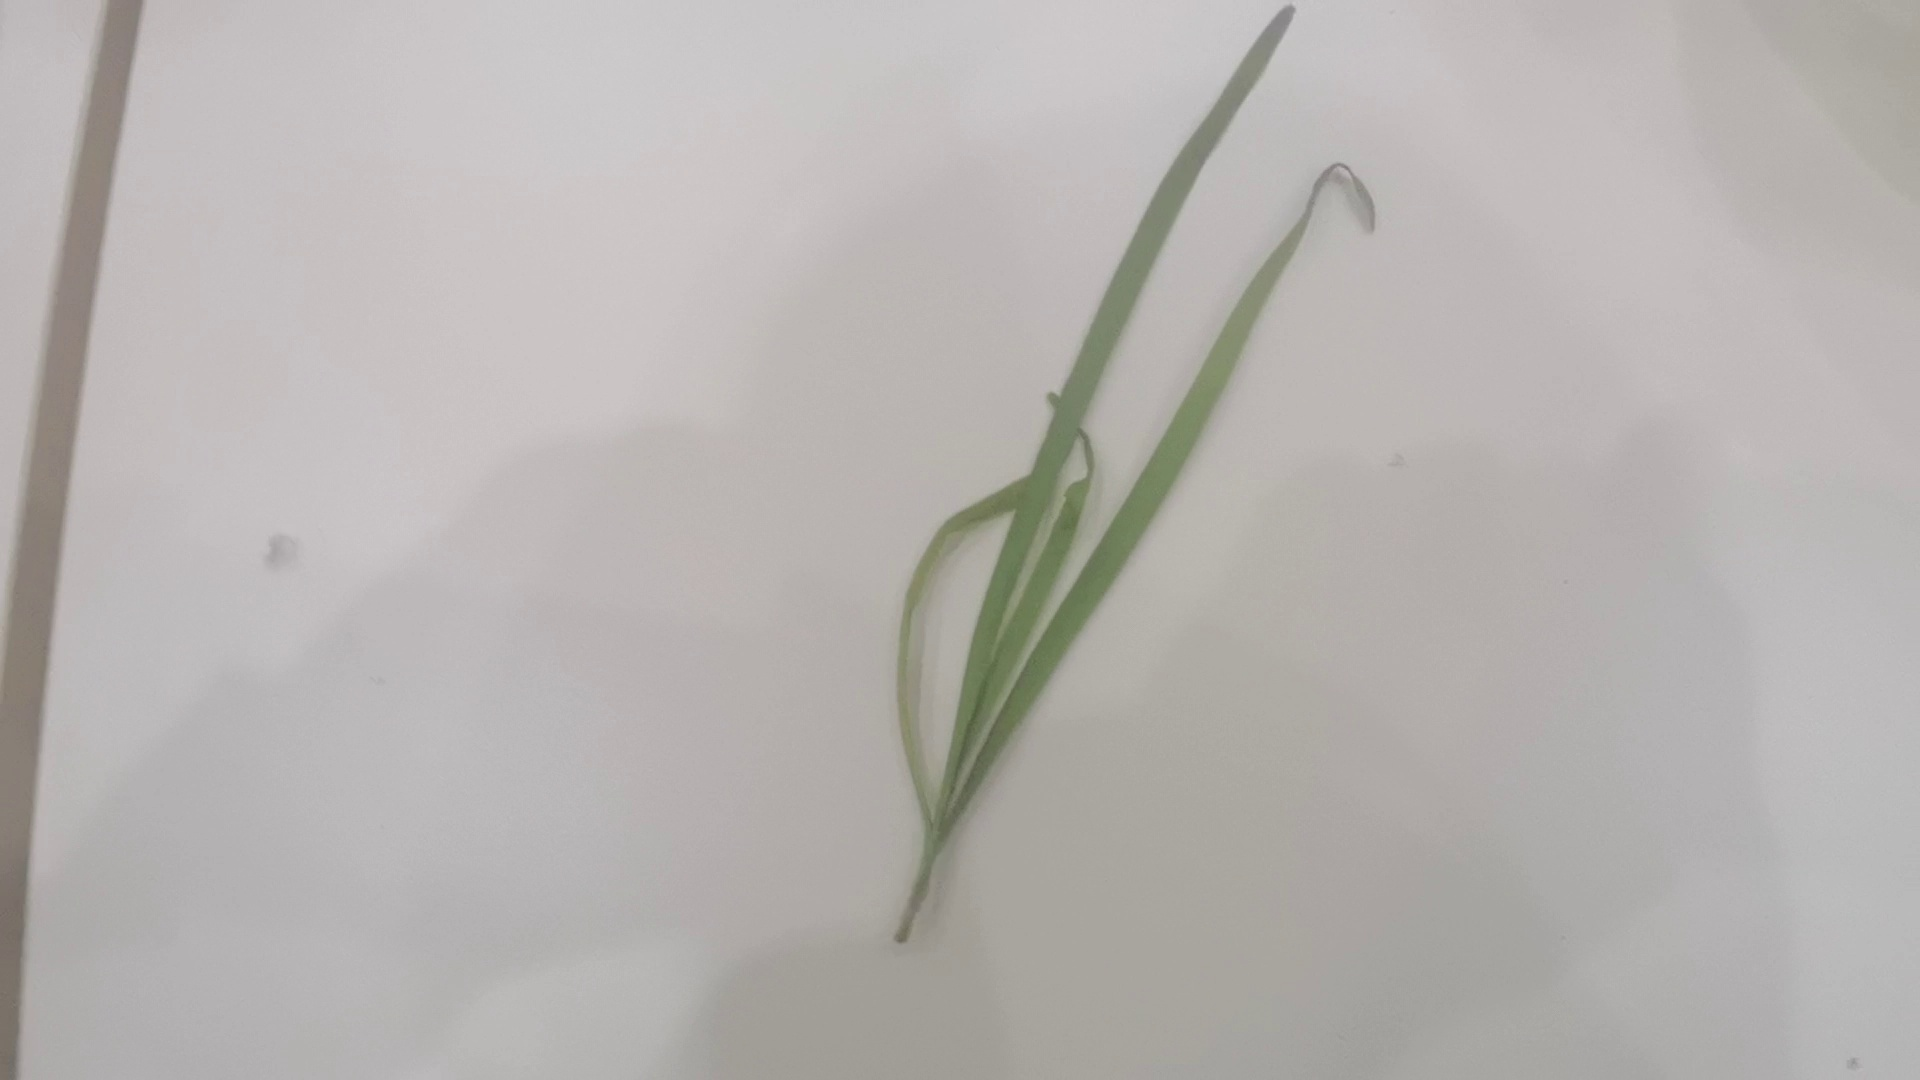chives: (869, 3, 1385, 963)
